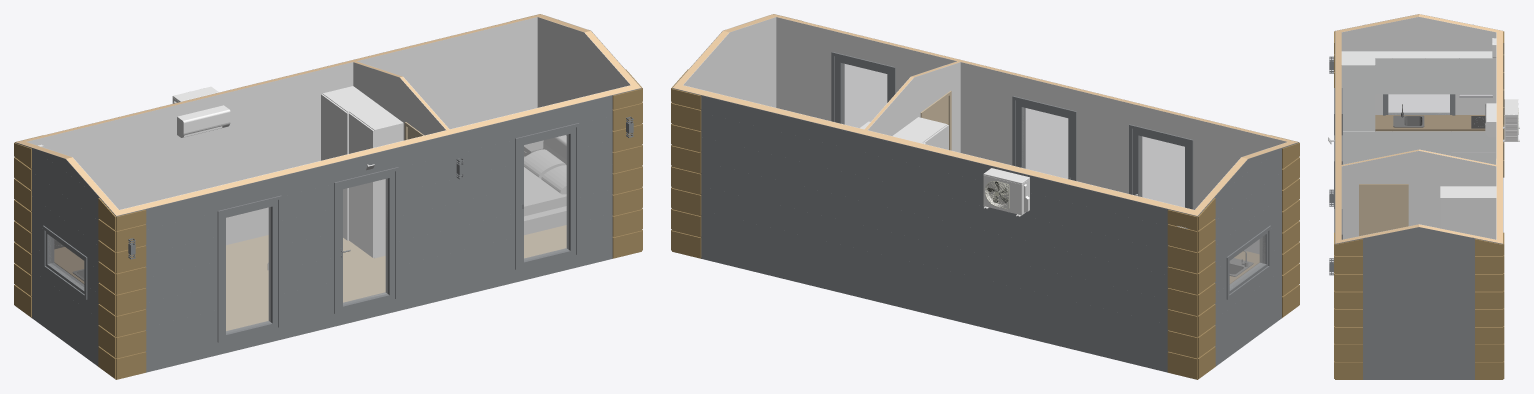
3 views of the same model, side by side, from view 1: azimuth 30°, elevation 25°; view 2: azimuth 150°, elevation 25°; view 3: azimuth 270°, elevation 25° (orthographic). The views are drawn at different scales.
Parts seen in each view (by area): view 1: IfcWall/Part:2345365, IfcBuildingElementProxy/Kampai Kvadratiniai - line based:Ru. (×3), IfcPlate/System Panel:Sandwich užbaigimas:3142444, IfcWall/Part:2345357, IfcWindow/Langai (Akrusta):1000x2100x120 (dešininis):2520826, IfcWindow/Langai (Akrusta):1000x2100x120 (kairinis):2523428, IfcDoor/Durys išorinės:1000x2100x120 (dešininės):2523263, IfcFurnishingElement/Ikea spinta:1500 x 550 x 2100mm:2426575, IfcPlate/System Panel:Sandwich užbaigimas:3142329, IfcPlate/System Panel:Sandwich užbaigimas:3142352, IfcPlate/System Panel:Sandwich užbaigimas:3142375, IfcPlate/System Panel:Sandwich užbaigimas:3142398 (+20 smaller); view 2: IfcWall/Part:2345356, IfcWall/Part:2345366, IfcPlate/System Panel:Sandwich užbaigimas:3145838, IfcPlate/System Panel:Sandwich užbaigimas:3145912, IfcPlate/System Panel:Sandwich užbaigimas:3145986, IfcPlate/System Panel:Sandwich užbaigimas:3146060, IfcBuildingElementProxy/Kampai Kvadratiniai - line based:Ru. (×3), IfcPlate/System Panel:Sandwich užbaigimas:3146134, IfcPlate/System Panel:Sandwich užbaigimas:3146208, IfcWall/Part:2345359, IfcBuildingElementProxy/Kampai Kvadratiniai - line based:Ru, IfcWindow/Langai (Akrusta):1000x2100x120 (dešininis):2520826 (+20 smaller); view 3: IfcBuildingElementProxy/Kampai Kvadratiniai - line based:Ru. (×3), IfcWall/Part:2391471, IfcWall/Part:2345362, IfcFurnishingElement/Cabinet_-_Storage:1000 x 500 x 2100mm:3, IfcDoor/Durys vidinės:800x2100 x 120 (kairinės):2525562, IfcPlate/System Panel:Sandwich užbaigimas:3147238, IfcPlate/System Panel:Sandwich užbaigimas:3147313, IfcWall/Part:2345360, IfcPlate/System Panel:Sandwich užbaigimas:3147213, IfcPlate/System Panel:Sandwich užbaigimas:3147288, IfcPlate/System Panel:Sandwich užbaigimas:3147263, IfcPlate/System Panel:Sandwich užbaigimas:3147338 (+35 smaller).
Boxes of the visible parts, bbox=[...] form: IfcWall/Part:2345365: bbox=[26, 17, 537, 244]; IfcBuildingElementProxy/Kampai Kvadratiniai - line based:Ru. (×3): bbox=[14, 88, 642, 379]; IfcPlate/System Panel:Sandwich užbaigimas:3142444: bbox=[146, 95, 612, 228]; IfcWall/Part:2345357: bbox=[116, 88, 641, 372]; IfcWindow/Langai (Akrusta):1000x2100x120 (dešininis):2520826: bbox=[217, 195, 281, 342]; IfcWindow/Langai (Akrusta):1000x2100x120 (kairinis):2523428: bbox=[515, 123, 579, 269]; IfcDoor/Durys išorinės:1000x2100x120 (dešininės):2523263: bbox=[334, 167, 398, 313]; IfcFurnishingElement/Ikea spinta:1500 x 550 x 2100mm:2426575: bbox=[321, 86, 403, 257]; IfcPlate/System Panel:Sandwich užbaigimas:3142329: bbox=[145, 213, 612, 351]; IfcPlate/System Panel:Sandwich užbaigimas:3142352: bbox=[146, 189, 612, 326]; IfcPlate/System Panel:Sandwich užbaigimas:3142375: bbox=[145, 165, 612, 302]; IfcPlate/System Panel:Sandwich užbaigimas:3142398: bbox=[145, 140, 612, 277]; IfcWall/Part:2345356: bbox=[776, 17, 1287, 209]; IfcWall/Part:2345366: bbox=[672, 88, 1197, 372]; IfcPlate/System Panel:Sandwich užbaigimas:3145838: bbox=[701, 210, 1168, 347]; IfcPlate/System Panel:Sandwich užbaigimas:3145912: bbox=[701, 186, 1167, 323]; IfcPlate/System Panel:Sandwich užbaigimas:3145986: bbox=[701, 162, 1168, 299]; IfcPlate/System Panel:Sandwich užbaigimas:3146060: bbox=[701, 137, 1168, 274]; IfcBuildingElementProxy/Kampai Kvadratiniai - line based:Ru. (×3): bbox=[671, 88, 1299, 379]; IfcPlate/System Panel:Sandwich užbaigimas:3146134: bbox=[701, 113, 1168, 250]; IfcPlate/System Panel:Sandwich užbaigimas:3146208: bbox=[701, 95, 1167, 225]; IfcWall/Part:2345359: bbox=[683, 17, 776, 107]; IfcBuildingElementProxy/Kampai Kvadratiniai - line based:Ru: bbox=[1167, 209, 1197, 379]; IfcWindow/Langai (Akrusta):1000x2100x120 (dešininis):2520826: bbox=[1129, 124, 1193, 209]; IfcBuildingElementProxy/Kampai Kvadratiniai - line based:Ru. (×3): bbox=[1335, 232, 1504, 379]; IfcWall/Part:2391471: bbox=[1341, 151, 1496, 239]; IfcWall/Part:2345362: bbox=[1341, 17, 1496, 158]; IfcFurnishingElement/Cabinet_-_Storage:1000 x 500 x 2100mm:3: bbox=[1440, 186, 1496, 239]; IfcDoor/Durys vidinės:800x2100 x 120 (kairinės):2525562: bbox=[1359, 184, 1408, 236]; IfcPlate/System Panel:Sandwich užbaigimas:3147238: bbox=[1363, 319, 1474, 339]; IfcPlate/System Panel:Sandwich užbaigimas:3147313: bbox=[1363, 258, 1474, 278]; IfcWall/Part:2345360: bbox=[1335, 227, 1502, 379]; IfcPlate/System Panel:Sandwich užbaigimas:3147213: bbox=[1363, 340, 1474, 359]; IfcPlate/System Panel:Sandwich užbaigimas:3147288: bbox=[1363, 279, 1474, 298]; IfcPlate/System Panel:Sandwich užbaigimas:3147263: bbox=[1363, 299, 1474, 318]; IfcPlate/System Panel:Sandwich užbaigimas:3147338: bbox=[1363, 238, 1474, 257].
Size of the model in its own units: 904 by 301 by 342.
